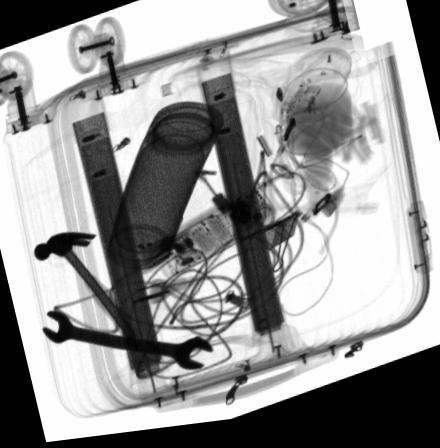Hammer: (31, 233, 143, 348)
Wrench: (40, 311, 213, 375)
